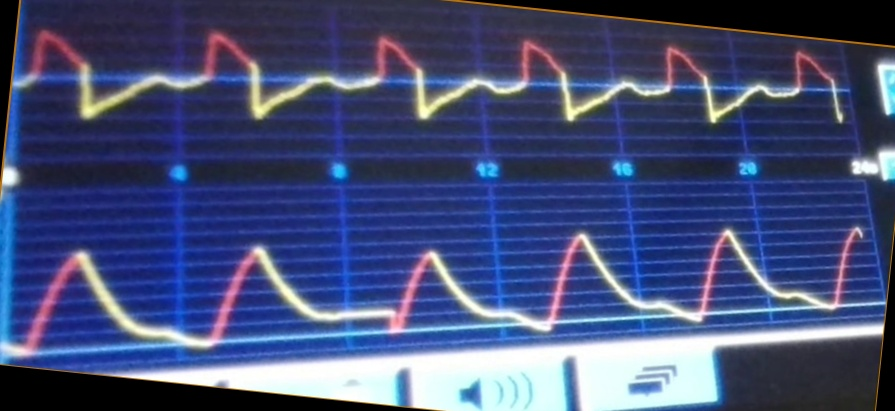Ineffective_effort Flow: (21, 22, 843, 125)
Ineffective_effort Volume: (13, 222, 870, 352)
